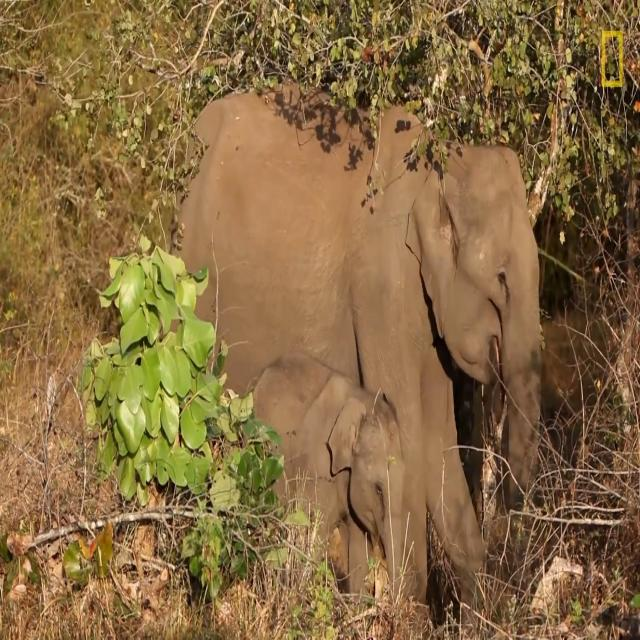ELEPHANT: (178, 81, 545, 533), (245, 349, 412, 623)
